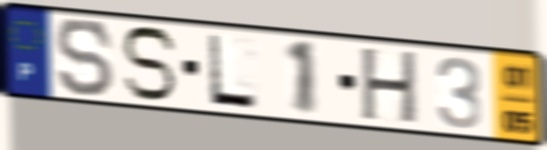1: (283, 38, 319, 117)
3: (433, 55, 483, 130)
H: (358, 46, 421, 128)
L: (205, 30, 261, 112)
S: (54, 16, 117, 99), (118, 23, 179, 104)
